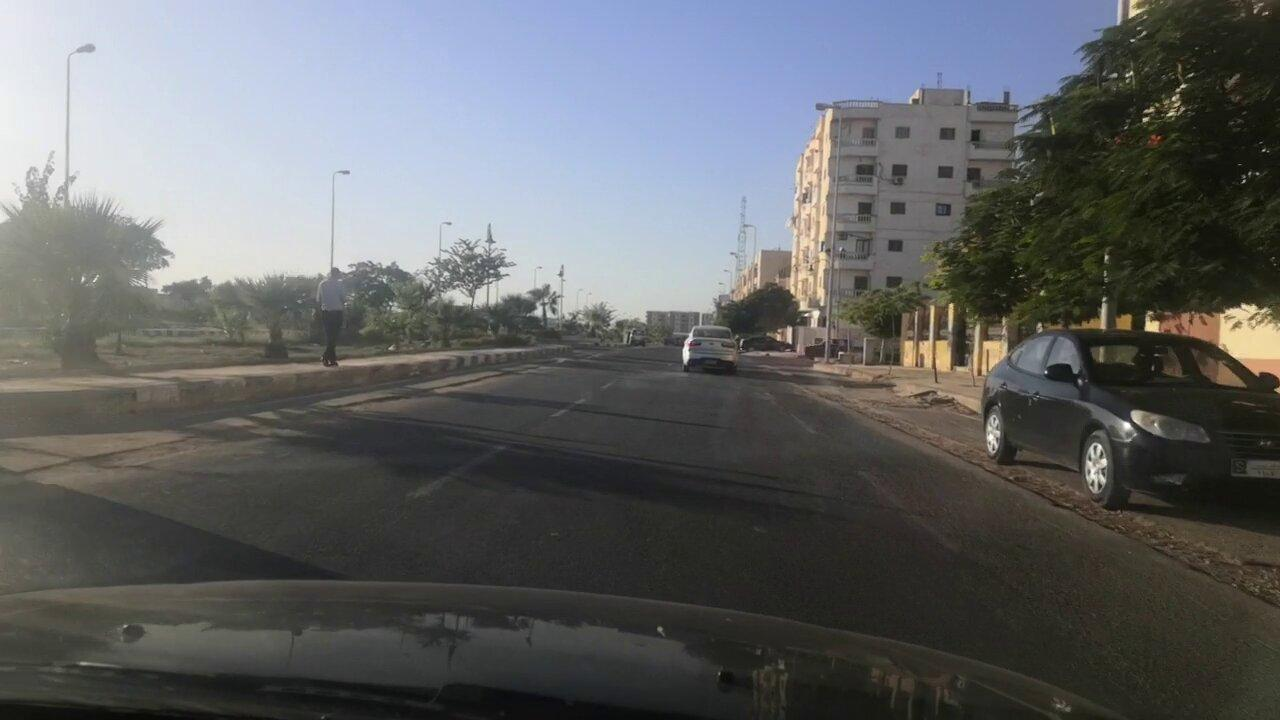Bump: (544, 355, 797, 387)
Pothole: (2, 366, 523, 504)
